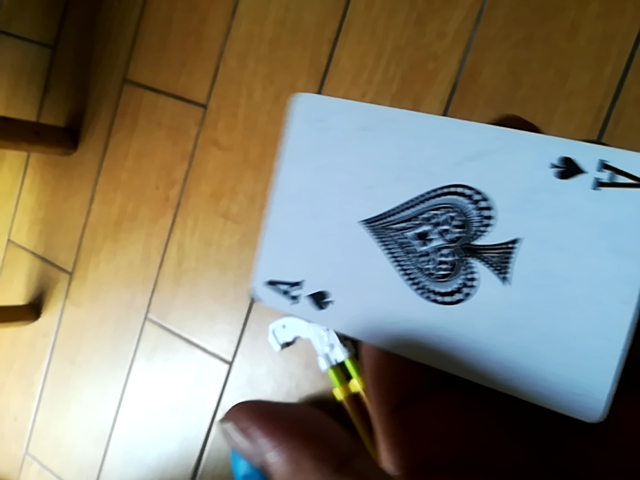ht a: (244, 83, 637, 420)
